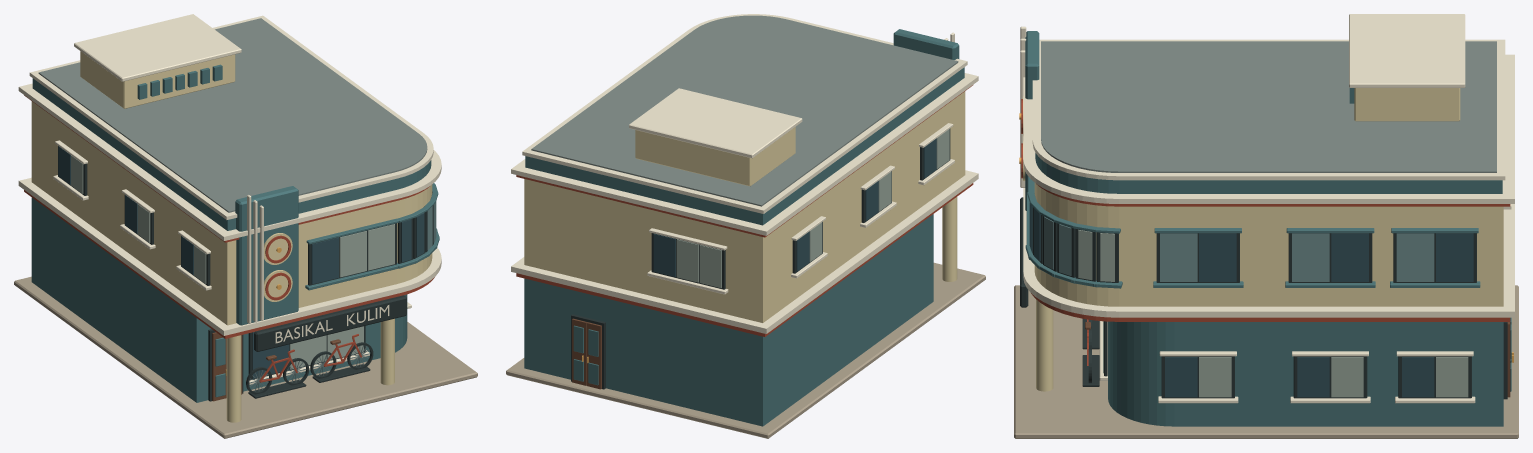
3 views of the same model, side by side, from view 1: azimuth 30°, elevation 25°; view 2: azimuth 150°, elevation 25°; view 3: azimuth 270°, elevation 25° (orthographic). The views are drawn at different scales.
Parts seen in each view (by area): view 1: Rounded corner shell, Streamline ribbons, Casements and sills, Cycle workshop, Cycle trade display, Covered pavement, Entrance joinery, Cast lettering; view 2: Rounded corner shell, Streamline ribbons, Casements and sills, Entrance joinery, Covered pavement; view 3: Rounded corner shell, Streamline ribbons, Casements and sills, Covered pavement, Cycle workshop, Entrance joinery.
Part boxes in pixels (box(x1,y1,x2,y2)): Rounded corner shell: box(14, 18, 477, 438); Streamline ribbons: box(18, 14, 441, 338); Casements and sills: box(53, 140, 439, 384); Cycle workshop: box(248, 295, 406, 398); Cycle trade display: box(246, 334, 373, 394); Covered pavement: box(226, 318, 394, 422); Entrance joinery: box(208, 329, 243, 401); Cast lettering: box(275, 305, 389, 343); Rounded corner shell: box(506, 15, 985, 438); Streamline ribbons: box(511, 14, 978, 336); Casements and sills: box(647, 123, 954, 294); Entrance joinery: box(571, 314, 605, 389); Covered pavement: box(942, 197, 957, 281); Rounded corner shell: box(1014, 41, 1518, 438); Streamline ribbons: box(1019, 14, 1514, 321); Casements and sills: box(1025, 176, 1511, 403); Covered pavement: box(1036, 299, 1053, 391); Cycle workshop: box(1020, 197, 1099, 386); Entrance joinery: box(1503, 317, 1513, 399).
Size of the model in its own units: 9.35 by 8.78 by 13.41.
